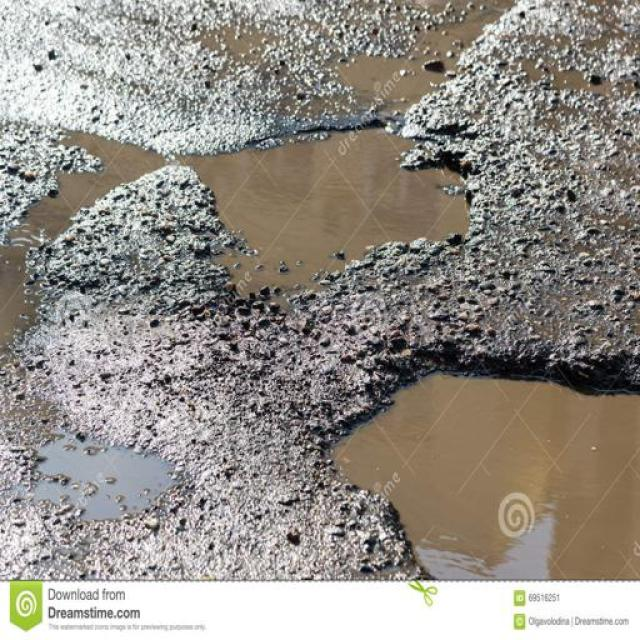puddle: (353, 335, 640, 584), (201, 115, 462, 305)
